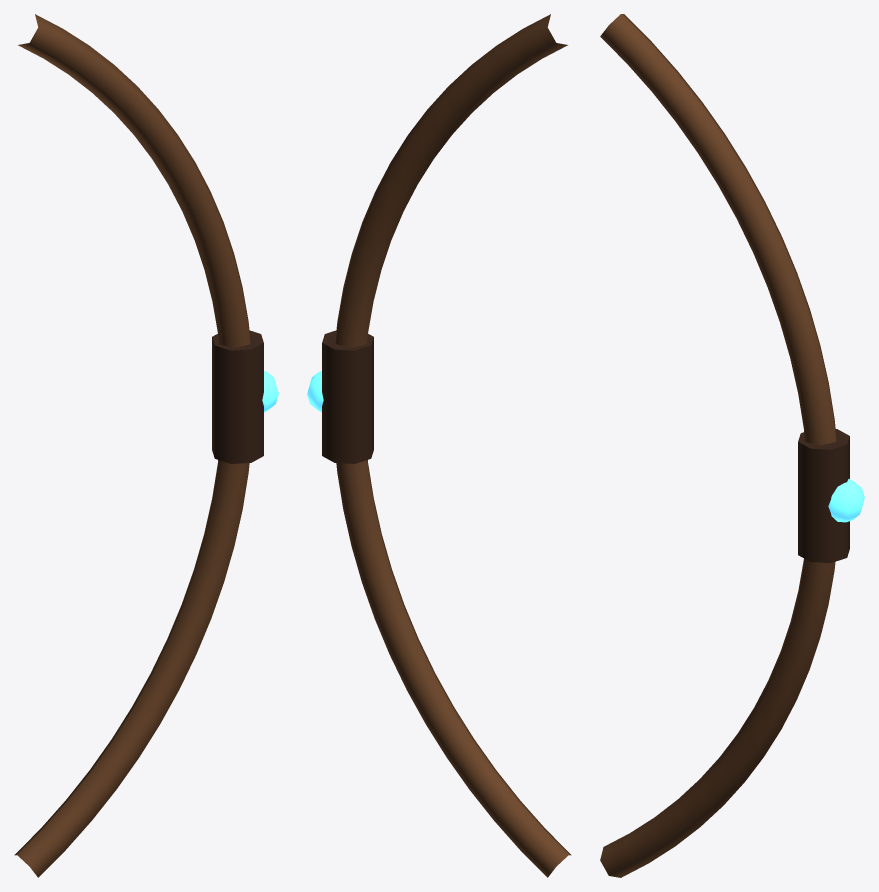
The model's file is bow_f2_106bab9.glb.
3 renders of one model, left to right at view 1: azimuth 30°, elevation 25°; view 2: azimuth 150°, elevation 25°; view 3: azimuth 330°, elevation 25°, orthographic.
Parts seen in each view (by area): view 1: m0_ow80_, m1_ow80_; view 2: m0_ow80_, m1_ow80_; view 3: m0_ow80_, m1_ow80_, m2_gm160_.
Boxes of the visible parts, x1,y1,x2,y2 form: m0_ow80_: [14, 14, 250, 877]; m1_ow80_: [212, 330, 263, 463]; m0_ow80_: [335, 14, 571, 877]; m1_ow80_: [322, 330, 373, 463]; m0_ow80_: [600, 14, 836, 877]; m1_ow80_: [798, 429, 849, 563]; m2_gm160_: [828, 479, 864, 522].
Size of the model in its own units: 0.6699 by 2.13 by 0.12.
